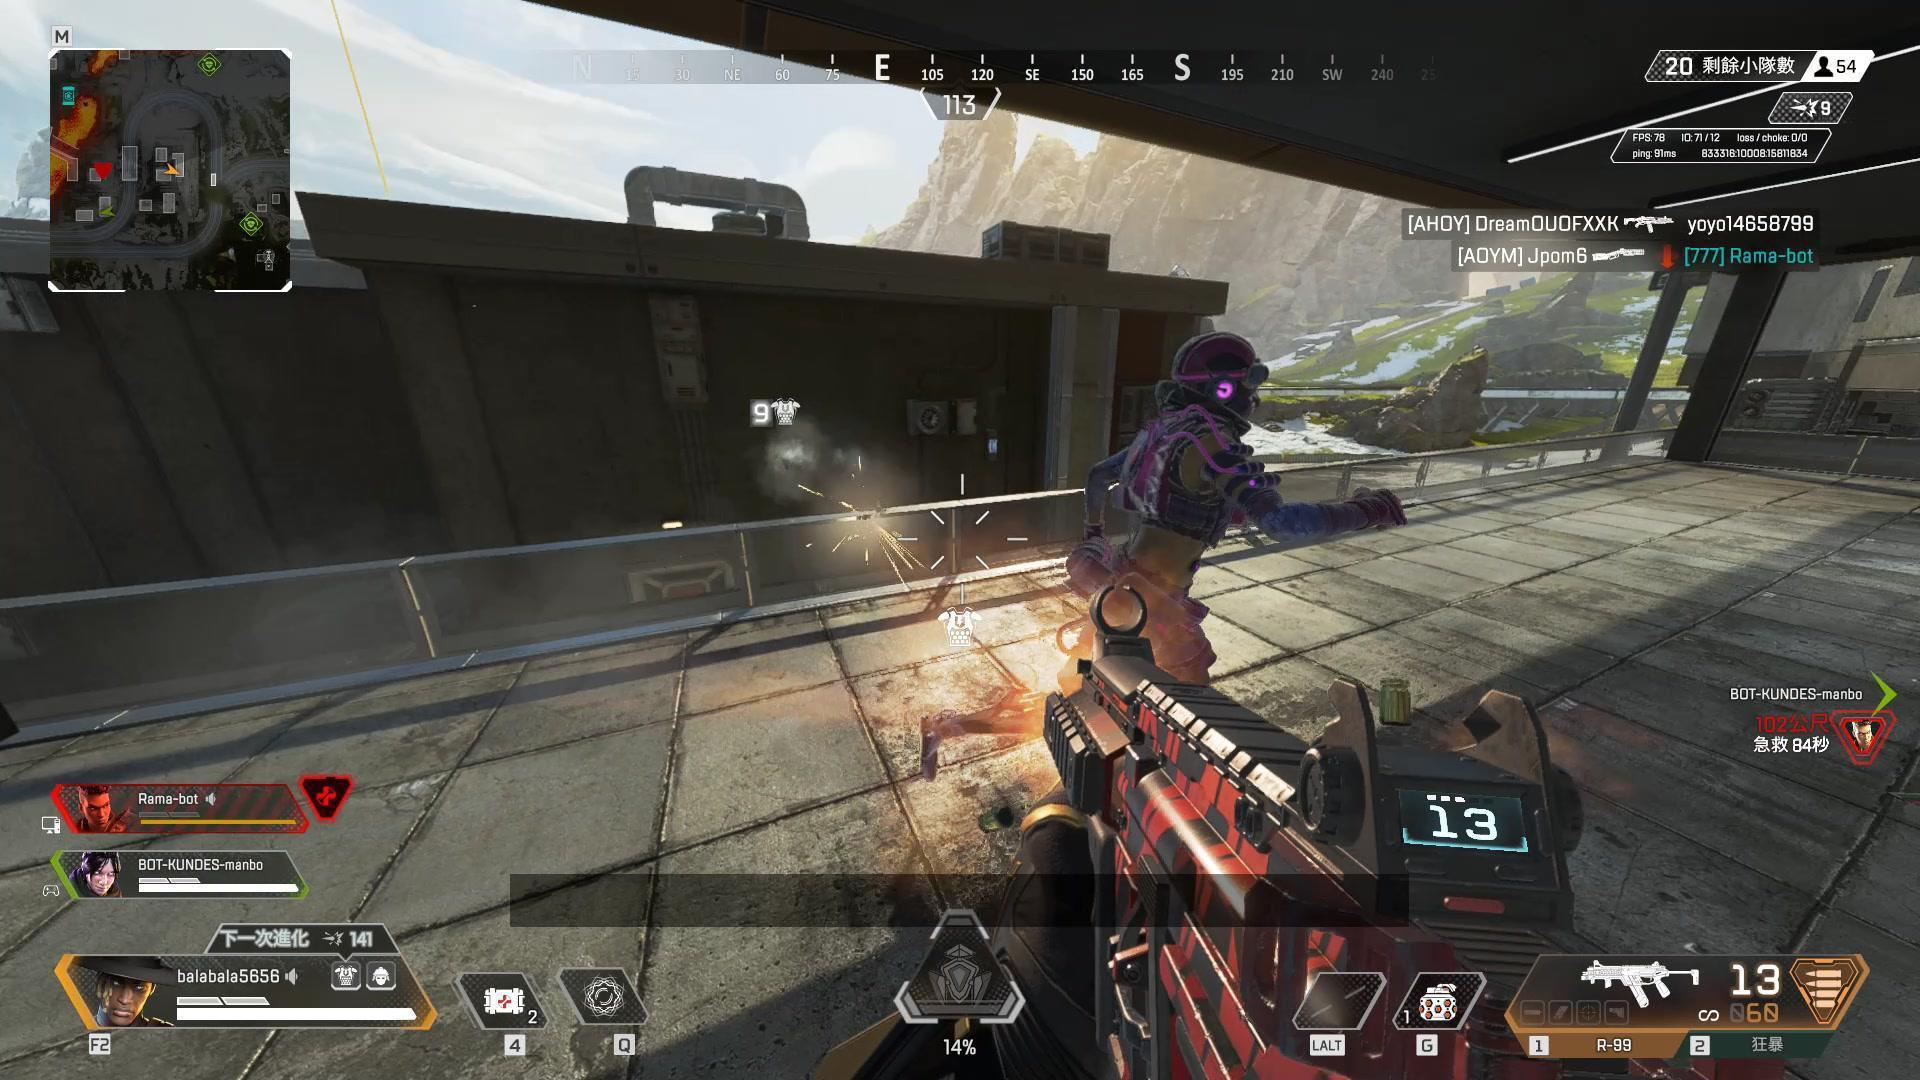avatar: (1075, 329, 1265, 682)
